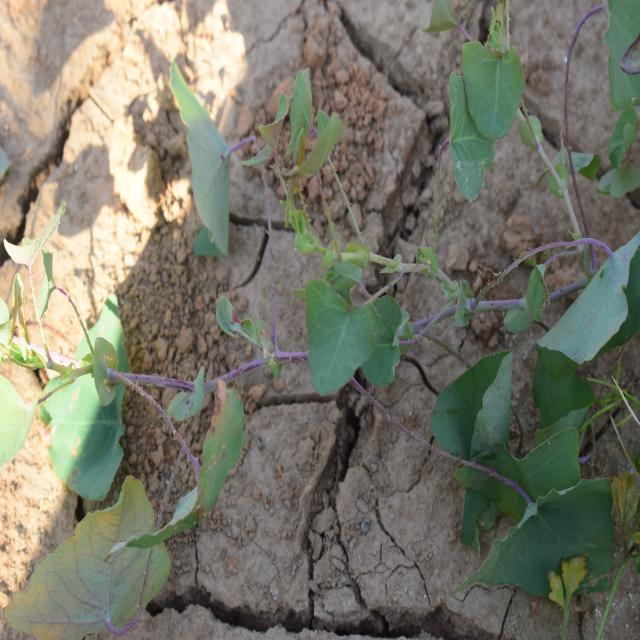Asiatic_Smartweed: (0, 245, 234, 542), (444, 308, 628, 587), (262, 217, 443, 412), (425, 29, 525, 216)
